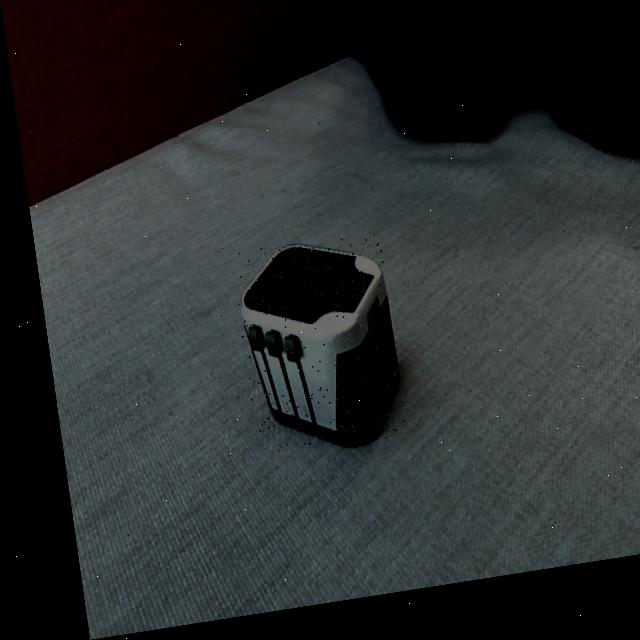adapter: (222, 240, 394, 467)
